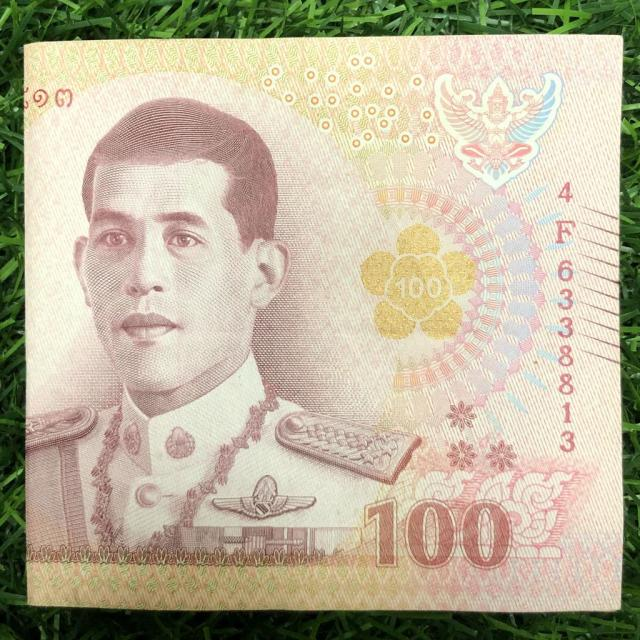THAI100: (22, 34, 627, 621)
